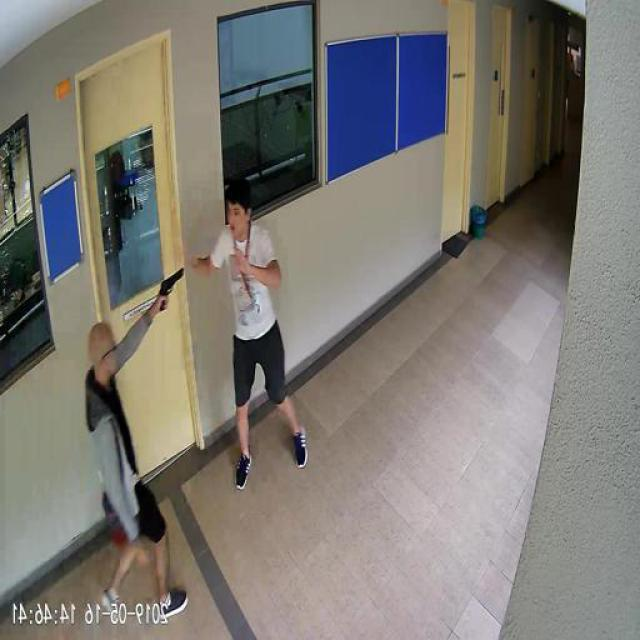Gun: (161, 266, 185, 308)
